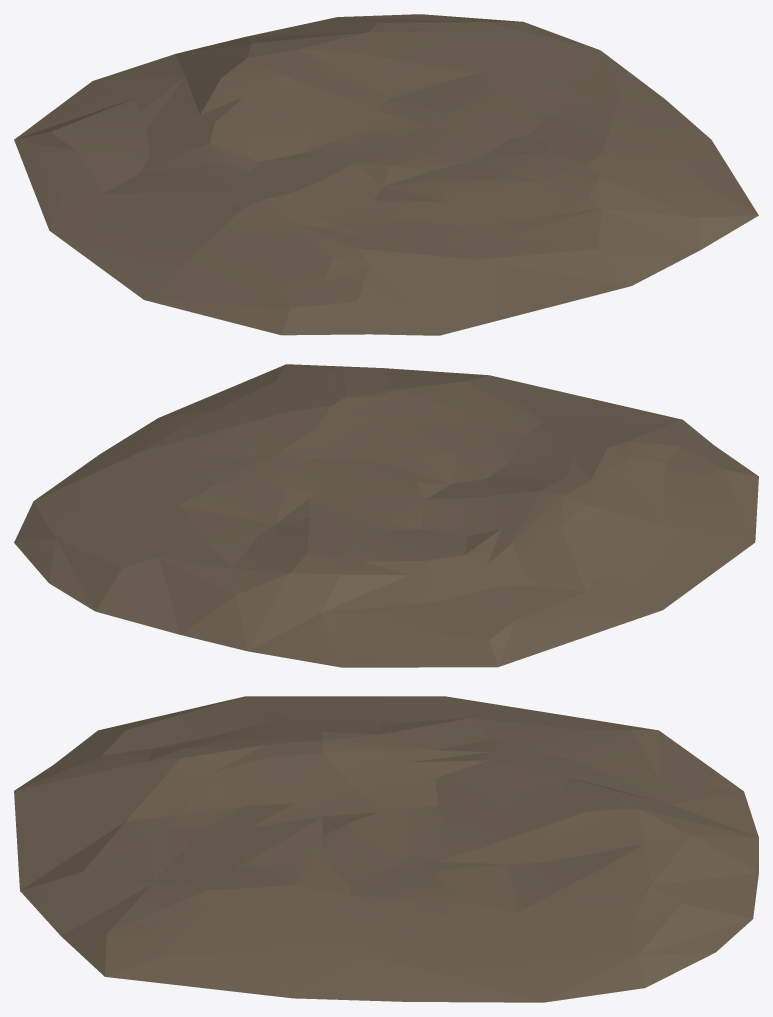
Rendered from SM_Env_Dirt_Flat_01.obj.
3 views of the same model, one above another, from view 1: azimuth 30°, elevation 25°; view 2: azimuth 150°, elevation 25°; view 3: azimuth 270°, elevation 25° (orthographic). The views are drawn at different scales.
Parts seen in each view (by area): view 1: SM_Env_Dirt_Flat_01_0; view 2: SM_Env_Dirt_Flat_01_0; view 3: SM_Env_Dirt_Flat_01_0.
Boxes of the visible parts, x1,y1,x2,y2 form: SM_Env_Dirt_Flat_01_0: (14,14,758,335); SM_Env_Dirt_Flat_01_0: (14,364,758,667); SM_Env_Dirt_Flat_01_0: (14,696,758,1002).
Bounding box in the file's own units: 5.12 × 0.2917 × 5.26.
Materials: 1 (1 with a texture image).
